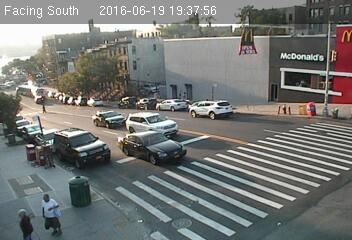neg: (73, 110, 89, 131), (17, 106, 32, 125), (119, 102, 133, 121), (100, 107, 113, 124), (43, 115, 56, 132), (30, 117, 40, 132)
pos: (33, 188, 67, 232), (16, 204, 39, 234), (37, 99, 51, 118)
